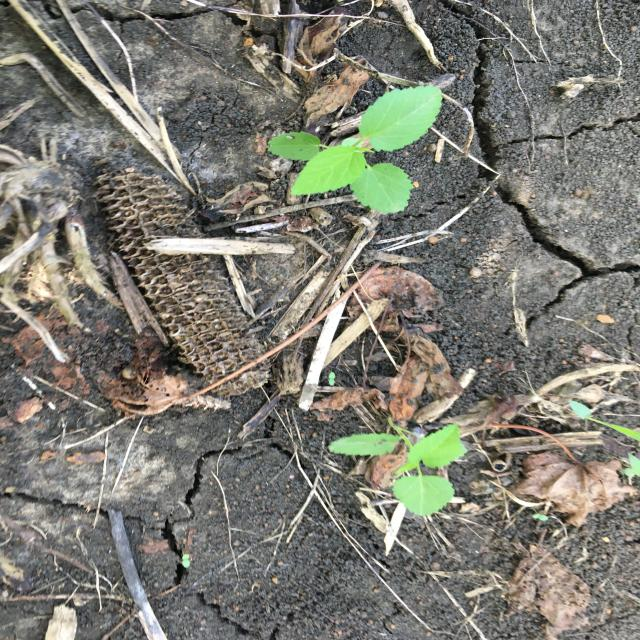PricklySida: (264, 83, 446, 216), (326, 415, 468, 517)
